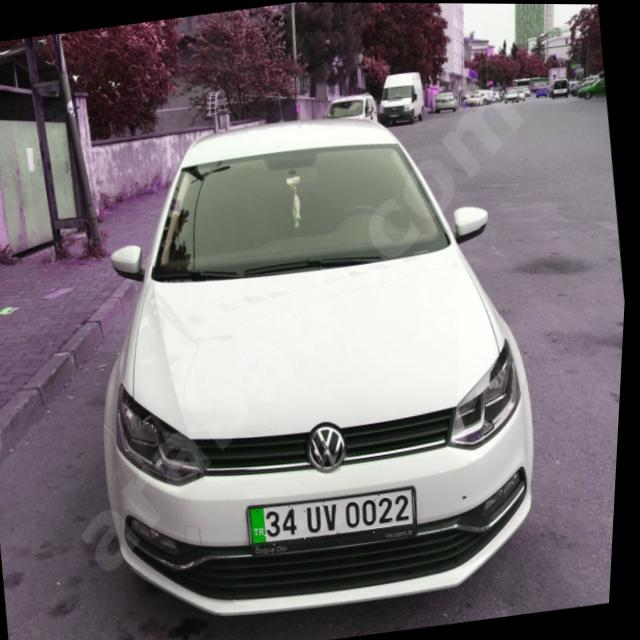license_plate: (251, 486, 424, 550)
